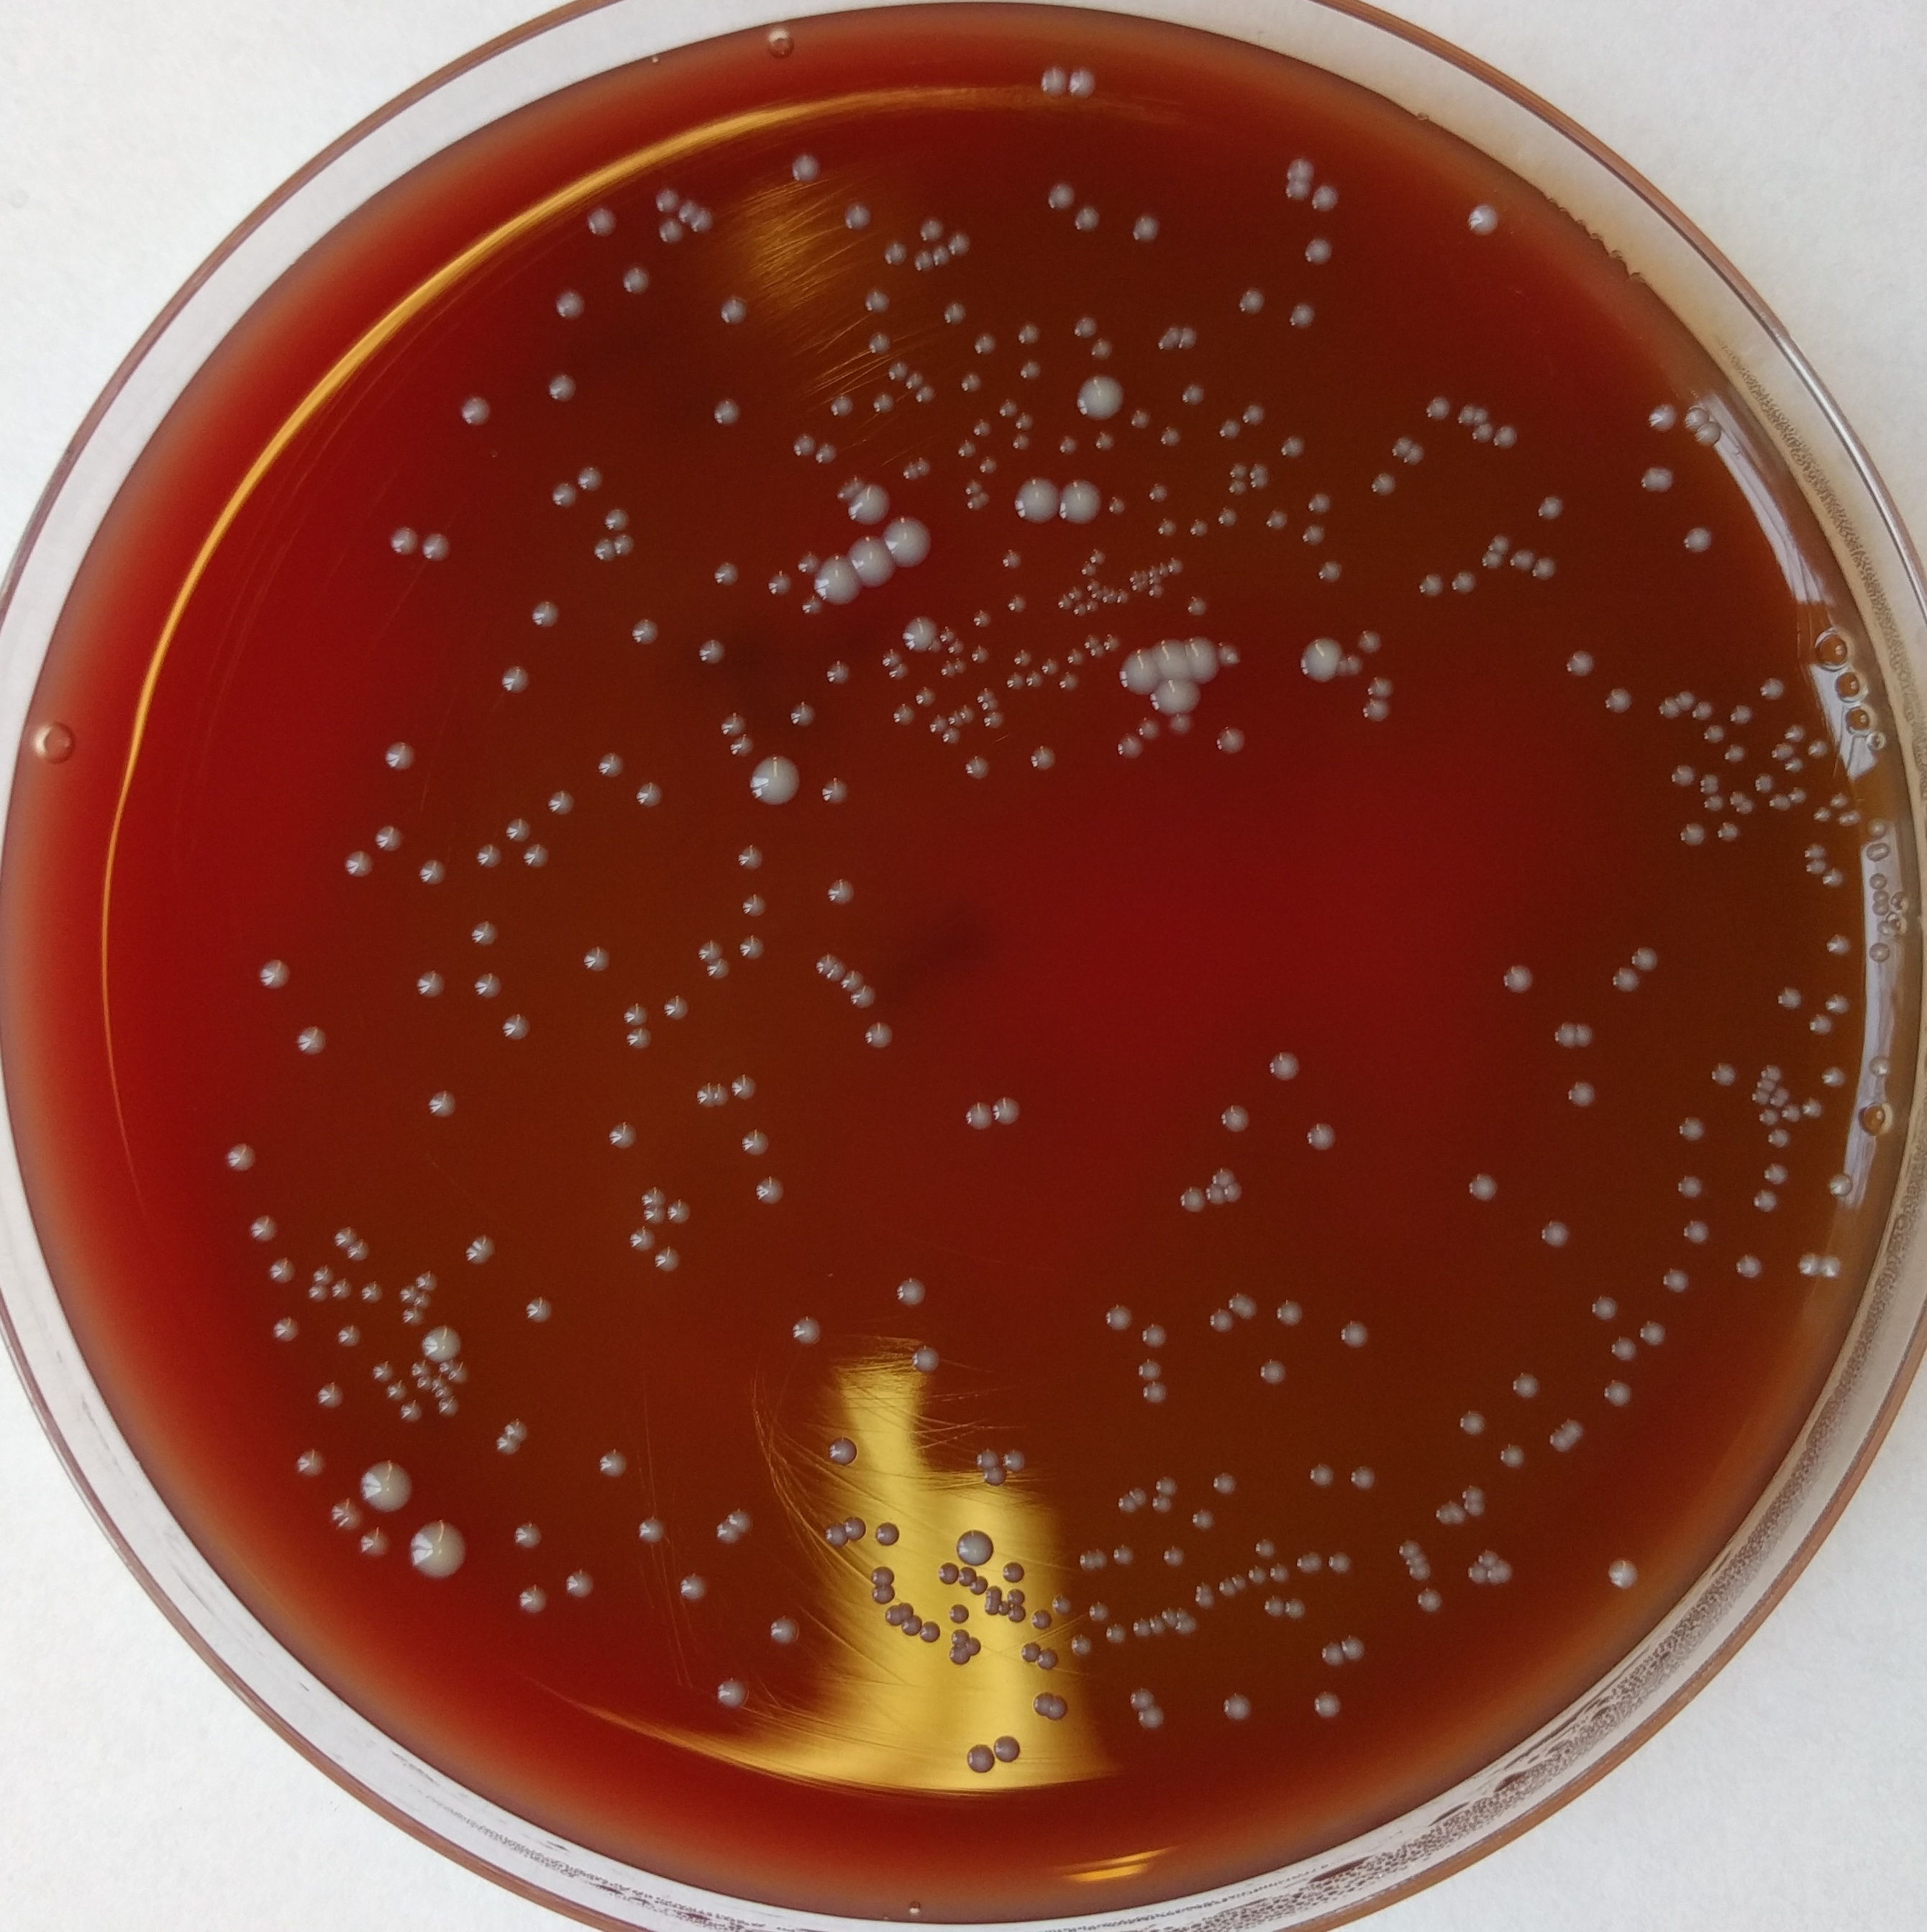sp23: (404, 1517, 471, 1586), (881, 513, 934, 568), (365, 1456, 415, 1514), (849, 535, 898, 589), (1011, 475, 1059, 528), (1295, 637, 1341, 692), (752, 755, 799, 806), (1055, 476, 1101, 529), (814, 552, 858, 607), (1076, 374, 1122, 422), (852, 482, 891, 535), (540, 367, 584, 413), (1121, 644, 1158, 697), (459, 1228, 503, 1272), (1542, 1419, 1588, 1459), (711, 1671, 754, 1713), (895, 1274, 935, 1318), (552, 284, 598, 323), (1189, 630, 1221, 685), (785, 1311, 828, 1352), (289, 1020, 330, 1062), (953, 1528, 997, 1567), (219, 1134, 263, 1173), (1152, 635, 1189, 681), (452, 393, 501, 427), (595, 1445, 637, 1484), (293, 1445, 337, 1482), (1459, 201, 1505, 236), (369, 824, 415, 859), (1149, 681, 1202, 711), (422, 1323, 464, 1360), (819, 1431, 861, 1468), (418, 524, 455, 566), (422, 1085, 466, 1120), (1263, 1045, 1302, 1083), (1302, 1119, 1341, 1157), (1463, 1166, 1502, 1205), (245, 1212, 284, 1251), (519, 1290, 556, 1330), (1636, 462, 1678, 498), (1795, 1247, 1841, 1279), (326, 1498, 365, 1535), (385, 522, 422, 561), (1136, 1314, 1172, 1355), (1218, 1690, 1260, 1724), (1209, 725, 1253, 757), (1041, 176, 1078, 213), (561, 1567, 598, 1604), (1101, 1297, 1138, 1334), (618, 263, 655, 300), (1535, 1216, 1574, 1251), (1604, 1554, 1643, 1590), (570, 459, 605, 498), (1216, 1103, 1256, 1136), (1064, 62, 1098, 102), (674, 1563, 708, 1604), (575, 939, 616, 972), (378, 739, 420, 771), (256, 958, 293, 993), (498, 1007, 533, 1045), (517, 836, 552, 873), (528, 595, 563, 632), (582, 203, 619, 238), (1643, 397, 1676, 436), (1336, 1318, 1375, 1352), (732, 842, 771, 875), (1269, 1297, 1309, 1329), (1682, 524, 1717, 559), (1599, 681, 1634, 716), (1498, 962, 1533, 997), (632, 1514, 667, 1549), (990, 1094, 1025, 1129), (1038, 62, 1071, 99), (1233, 281, 1267, 318), (1283, 298, 1316, 335), (1454, 1406, 1488, 1443), (339, 847, 376, 880), (471, 838, 505, 875), (593, 746, 630, 780), (918, 210, 949, 249), (658, 992, 697, 1023), (1064, 311, 1105, 341), (711, 296, 752, 326), (1357, 695, 1398, 725), (1675, 1172, 1708, 1207), (1823, 1166, 1858, 1200), (1601, 1374, 1636, 1408), (1495, 1438, 1528, 1473), (1306, 1457, 1339, 1493), (515, 1583, 551, 1616), (512, 1519, 547, 1553), (358, 1524, 394, 1558), (738, 1126, 771, 1161), (861, 1020, 895, 1055), (415, 857, 450, 891), (494, 662, 529, 695), (715, 708, 750, 741), (900, 614, 932, 651), (1346, 1461, 1378, 1498), (752, 1175, 789, 1207), (499, 815, 536, 847), (1705, 1059, 1743, 1089), (1272, 432, 1313, 461), (651, 213, 685, 247), (1676, 819, 1710, 852), (1678, 1216, 1712, 1249), (1636, 1314, 1669, 1348), (1433, 1494, 1466, 1528), (1281, 173, 1313, 208), (1306, 178, 1338, 213), (1562, 646, 1597, 678), (1629, 942, 1664, 974), (1309, 1689, 1345, 1720), (768, 1614, 803, 1646), (265, 1254, 296, 1290), (630, 776, 665, 808), (822, 656, 854, 692), (709, 556, 741, 591), (695, 635, 731, 667), (1075, 201, 1105, 238), (725, 1073, 762, 1103), (787, 152, 826, 180), (709, 397, 748, 425), (835, 205, 875, 231), (1301, 235, 1334, 266), (1179, 378, 1211, 411), (1533, 492, 1567, 524), (1715, 736, 1749, 768), (963, 1741, 997, 1773), (270, 1313, 304, 1344), (962, 1099, 995, 1131), (694, 935, 727, 967), (787, 697, 821, 729), (628, 616, 662, 648), (1129, 212, 1159, 247), (683, 206, 718, 236), (1445, 566, 1481, 596), (1675, 1112, 1710, 1142), (544, 790, 579, 820), (826, 873, 856, 909), (1609, 965, 1646, 993), (1511, 1371, 1548, 1399), (607, 1119, 639, 1150), (1135, 1355, 1166, 1387), (623, 997, 655, 1029), (471, 970, 503, 1002), (547, 478, 579, 510), (607, 529, 639, 561), (1235, 401, 1269, 431), (1551, 1018, 1581, 1052), (1749, 1186, 1779, 1219), (1731, 1249, 1765, 1279), (1606, 1332, 1639, 1362), (992, 1733, 1022, 1766), (316, 1376, 346, 1410), (623, 1025, 656, 1055), (415, 967, 448, 997), (821, 775, 851, 808), (709, 1519, 745, 1547), (1179, 1180, 1207, 1216), (1163, 711, 1200, 738), (466, 919, 503, 946), (914, 1344, 944, 1376), (1285, 152, 1315, 183), (1676, 401, 1706, 432), (1692, 420, 1724, 450), (1666, 760, 1698, 790), (1563, 1076, 1593, 1108), (1803, 1009, 1835, 1039), (1761, 1156, 1791, 1187), (1209, 1468, 1239, 1500), (1336, 1632, 1366, 1664), (602, 503, 634, 533), (764, 570, 796, 600), (1212, 637, 1242, 669), (1016, 316, 1045, 349), (861, 326, 895, 355), (1302, 490, 1336, 519), (1352, 626, 1385, 655), (1687, 697, 1721, 725), (1775, 983, 1803, 1016), (653, 1242, 681, 1276), (626, 1224, 660, 1253), (845, 983, 879, 1011), (1112, 732, 1147, 759), (1814, 1062, 1849, 1089), (588, 533, 614, 568), (1489, 422, 1519, 452), (1756, 674, 1786, 704), (1661, 1265, 1691, 1295), (1256, 1355, 1286, 1385), (1484, 1556, 1514, 1586), (1290, 1546, 1320, 1576), (962, 752, 992, 782), (937, 296, 969, 325), (1143, 478, 1175, 506), (649, 187, 681, 215), (1389, 434, 1421, 462), (1263, 506, 1295, 535), (1860, 836, 1892, 865), (1413, 1586, 1445, 1614), (817, 1521, 849, 1549), (725, 1505, 754, 1537), (664, 1196, 695, 1224), (736, 932, 768, 960), (739, 891, 771, 919), (1031, 739, 1059, 771), (967, 330, 1001, 356), (1419, 395, 1452, 422), (1364, 471, 1398, 498), (1149, 517, 1182, 543), (1528, 556, 1562, 582), (796, 545, 822, 579), (1015, 356, 1050, 381), (1311, 561, 1346, 586), (1765, 738, 1800, 762), (1126, 408, 1156, 436), (1158, 425, 1188, 453), (1212, 413, 1242, 441), (1211, 503, 1239, 533), (1507, 545, 1535, 575), (1726, 700, 1756, 729), (1133, 713, 1163, 741), (1203, 1306, 1233, 1334), (1325, 1547, 1355, 1576), (1138, 1703, 1168, 1731), (1068, 1630, 1098, 1659), (1151, 1473, 1181, 1501), (866, 1563, 896, 1591), (974, 1445, 1002, 1475), (397, 1397, 427, 1426), (446, 1362, 475, 1392), (1140, 1378, 1168, 1408), (875, 238, 907, 265), (1297, 522, 1329, 549), (1655, 692, 1682, 723), (1586, 1295, 1618, 1322), (866, 390, 900, 415), (1800, 1089, 1825, 1122), (1126, 1687, 1159, 1711), (791, 429, 819, 457), (1484, 531, 1512, 559), (1835, 803, 1863, 831), (1823, 988, 1851, 1016), (1863, 1052, 1892, 1080), (334, 1322, 362, 1350), (413, 1265, 441, 1293), (729, 732, 757, 760), (1175, 323, 1202, 353), (907, 247, 934, 277), (1466, 420, 1496, 446), (1181, 591, 1211, 618), (1343, 651, 1369, 681), (1749, 769, 1779, 796), (1188, 1507, 1218, 1533), (307, 1260, 334, 1290), (796, 593, 826, 619), (912, 679, 939, 709), (858, 288, 889, 312), (911, 381, 942, 406), (826, 392, 858, 416), (808, 441, 840, 466), (1362, 674, 1394, 699), (1819, 932, 1851, 956), (1182, 515, 1216, 538), (868, 1583, 902, 1606), (974, 452, 1002, 478), (1103, 490, 1131, 517), (1819, 861, 1846, 889), (1473, 1544, 1502, 1570), (1251, 1533, 1278, 1561), (1258, 1595, 1286, 1621), (1320, 1639, 1346, 1667), (1085, 1597, 1112, 1625), (999, 1560, 1027, 1586), (1001, 1445, 1027, 1473), (436, 1394, 464, 1420), (704, 955, 732, 981), (889, 700, 916, 729), (997, 545, 1023, 573), (1417, 573, 1447, 598), (919, 1618, 944, 1648), (494, 1427, 519, 1457), (1211, 1164, 1241, 1189), (1055, 669, 1085, 693), (1699, 790, 1731, 813), (981, 1584, 1004, 1616), (946, 228, 972, 254), (1805, 736, 1832, 762), (1781, 753, 1807, 780), (1263, 1558, 1290, 1584), (1279, 1593, 1306, 1620), (874, 1519, 900, 1546), (840, 1514, 866, 1540), (330, 1223, 356, 1249), (956, 371, 985, 395), (1089, 429, 1117, 453), (1221, 476, 1249, 501), (1763, 1124, 1791, 1149), (1103, 1620, 1131, 1644), (1027, 1690, 1052, 1719), (935, 1561, 960, 1590), (944, 1643, 972, 1667), (360, 1277, 385, 1306), (953, 700, 978, 729), (993, 397, 1023, 420), (1052, 432, 1082, 455), (1045, 1692, 1068, 1722), (1023, 663, 1046, 693), (1089, 335, 1113, 362), (1470, 402, 1495, 429), (1479, 549, 1505, 573), (1715, 820, 1742, 845), (1766, 790, 1791, 817), (1809, 803, 1833, 829), (1756, 1059, 1782, 1083), (1159, 1542, 1186, 1567), (1016, 1637, 1043, 1662), (371, 1359, 397, 1383), (328, 1276, 353, 1302), (1221, 1179, 1246, 1205), (981, 709, 1008, 734), (967, 642, 993, 667), (882, 358, 911, 381), (671, 198, 699, 221), (1699, 723, 1728, 746), (1458, 1480, 1486, 1503), (1459, 1496, 1488, 1519), (1394, 1535, 1422, 1558), (1248, 1561, 1271, 1590), (1113, 1542, 1136, 1570), (505, 1413, 526, 1443), (711, 1080, 732, 1110), (884, 662, 914, 683), (960, 473, 985, 498), (1465, 1561, 1489, 1586), (408, 1355, 432, 1380), (305, 1281, 330, 1306), (348, 1237, 372, 1262), (641, 1200, 665, 1224), (1064, 644, 1089, 669), (1406, 441, 1429, 468), (1572, 1022, 1595, 1048), (1406, 1560, 1433, 1583), (394, 1281, 420, 1304), (401, 1304, 427, 1327), (1203, 1179, 1226, 1205), (690, 1080, 713, 1106), (1002, 593, 1029, 616), (902, 371, 930, 392), (1800, 842, 1828, 863), (1172, 1614, 1200, 1636), (877, 648, 905, 669), (1779, 725, 1809, 745), (967, 418, 990, 443), (1782, 785, 1807, 808), (1802, 854, 1825, 879), (1863, 870, 1888, 893), (1865, 940, 1890, 963), (1216, 1574, 1239, 1599), (1034, 1646, 1059, 1669), (900, 1614, 925, 1637), (882, 1604, 905, 1629), (641, 1184, 665, 1207), (810, 951, 835, 974), (840, 965, 865, 988), (1101, 630, 1124, 655), (1085, 543, 1108, 568), (951, 439, 978, 461), (1454, 401, 1475, 427), (1781, 1099, 1802, 1126), (1239, 1297, 1260, 1323), (1149, 1493, 1175, 1514), (1694, 768, 1722, 787), (1401, 1549, 1429, 1569), (967, 610, 995, 630), (1011, 411, 1034, 434), (1006, 431, 1029, 453), (1675, 688, 1698, 711), (1754, 1105, 1777, 1127), (1126, 1484, 1149, 1507), (1113, 1493, 1136, 1516), (955, 1565, 978, 1588), (948, 1602, 971, 1625), (383, 1380, 406, 1403), (925, 715, 948, 738), (1158, 1606, 1179, 1630), (1145, 1613, 1166, 1637), (1128, 1614, 1149, 1639), (1029, 1609, 1053, 1630), (1050, 1591, 1071, 1616), (1006, 1600, 1027, 1625), (895, 1600, 916, 1625), (411, 1288, 432, 1313), (939, 725, 963, 746), (941, 637, 965, 658), (1004, 669, 1025, 693), (1039, 653, 1061, 678), (1075, 558, 1099, 579), (1152, 330, 1175, 351), (1226, 461, 1249, 482), (1246, 459, 1269, 480), (1165, 556, 1186, 579), (1724, 783, 1745, 806), (1828, 787, 1849, 810), (1867, 813, 1888, 836), (1225, 1290, 1248, 1311), (1004, 1584, 1025, 1607), (983, 1464, 1004, 1487), (432, 1355, 455, 1376), (935, 660, 958, 681), (1009, 646, 1032, 667), (930, 240, 949, 265), (826, 958, 845, 983), (934, 625, 958, 644), (1246, 475, 1274, 490), (1752, 1073, 1773, 1094), (1751, 1083, 1772, 1105), (941, 709, 962, 730), (1083, 573, 1105, 595), (1145, 582, 1168, 602), (1733, 798, 1756, 817), (1195, 1590, 1218, 1609), (1076, 1547, 1096, 1570), (969, 1572, 988, 1595), (912, 455, 932, 476), (1152, 559, 1173, 579), (1087, 1546, 1108, 1565), (963, 1634, 983, 1655), (1064, 582, 1085, 602), (845, 475, 868, 492), (949, 655, 969, 674), (1082, 630, 1101, 649), (1163, 321, 1181, 342), (963, 494, 981, 515), (1867, 884, 1888, 902), (1871, 898, 1892, 916), (948, 1629, 969, 1646), (411, 1369, 429, 1390), (976, 688, 997, 706), (1053, 593, 1075, 610), (1129, 579, 1149, 596), (1230, 1572, 1249, 1590), (1083, 595, 1101, 614), (981, 697, 1002, 713), (1089, 639, 1105, 660), (926, 639, 944, 656), (1101, 586, 1119, 603), (438, 1383, 454, 1403), (1696, 782, 1721, 794), (1143, 563, 1165, 577), (904, 461, 919, 478), (1172, 1606, 1189, 1621), (993, 1600, 1011, 1616), (1071, 600, 1089, 616), (1143, 572, 1163, 586), (1117, 586, 1131, 605), (1768, 1094, 1786, 1108), (1193, 1581, 1212, 1593), (1129, 568, 1143, 584), (1773, 1085, 1789, 1099), (429, 1374, 445, 1389), (836, 483, 849, 499)
